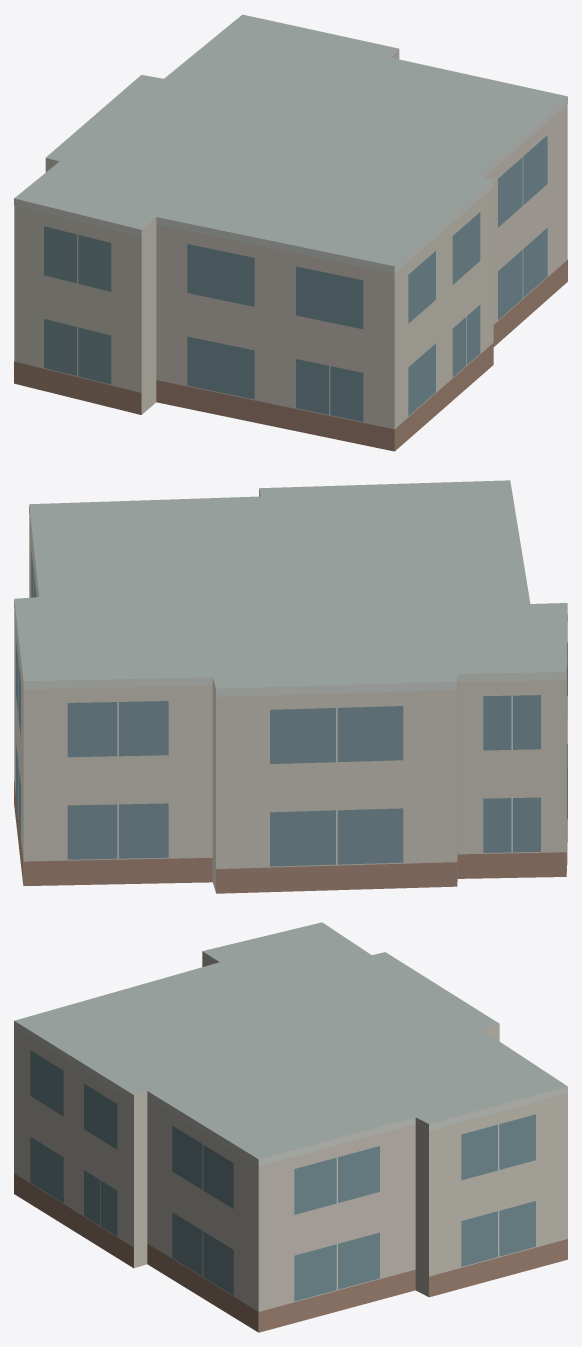
File: survey-upis-32680446.glb
The picture shows the model from 3 angles, top to bottom: view 1: azimuth 30°, elevation 25°; view 2: azimuth 150°, elevation 25°; view 3: azimuth 270°, elevation 25°; orthographic projection. The views are drawn at different scales.
Visible parts, largest first — view 1: survey-upis-32680446.tmp; view 2: survey-upis-32680446.tmp; view 3: survey-upis-32680446.tmp.
Boxes of the visible parts, x1,y1,x2,y2 form: survey-upis-32680446.tmp: (14, 14, 567, 451); survey-upis-32680446.tmp: (14, 480, 567, 893); survey-upis-32680446.tmp: (14, 922, 567, 1332).
Bounding box in the file's own units: 17.93 × 6.1 × 17.69.
